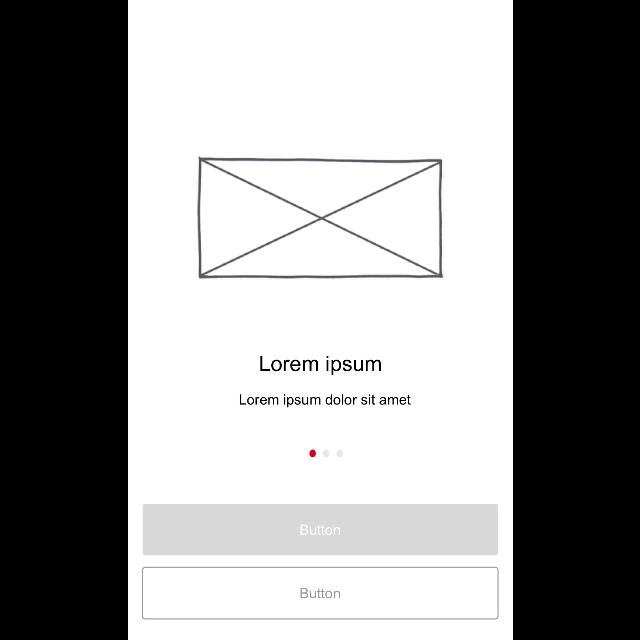image: (196, 156, 444, 278)
pageindicator: (308, 449, 342, 457)
text: (260, 355, 380, 375), (240, 394, 410, 408)
textbutton: (142, 566, 498, 620), (142, 504, 498, 556)
